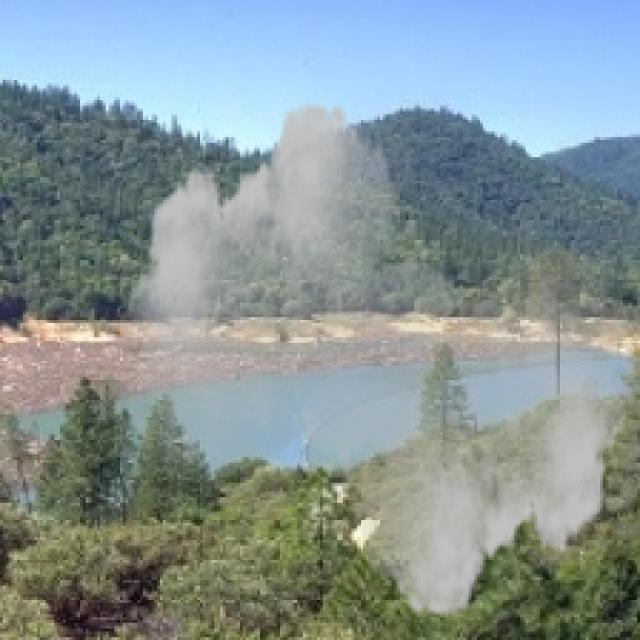Smoke: (120, 86, 634, 634)
